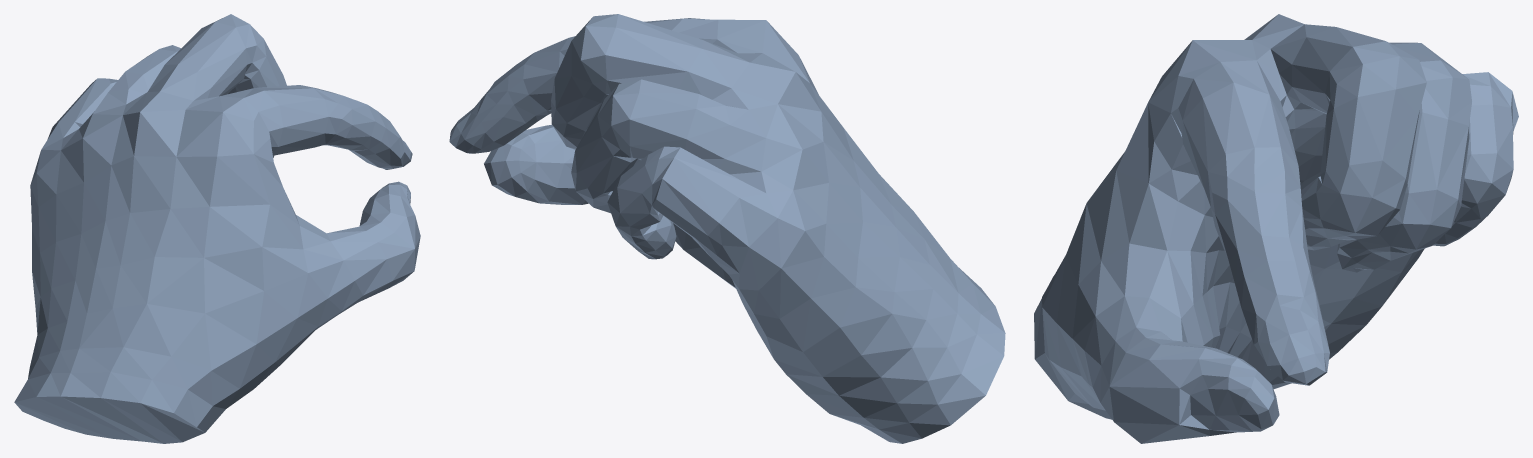
3 views of the same model, side by side, from view 1: azimuth 30°, elevation 25°; view 2: azimuth 150°, elevation 25°; view 3: azimuth 270°, elevation 25° (orthographic). The views are drawn at different scales.
Size of the model in its own units: 0.1511 by 0.1161 by 0.1035.
